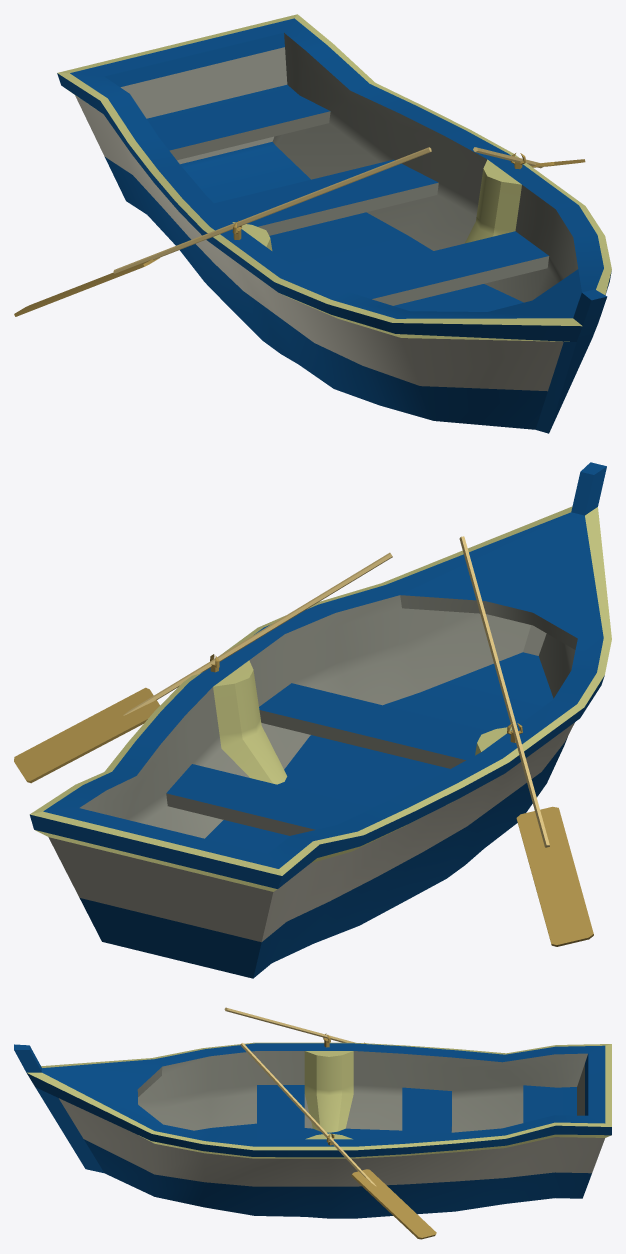
Rendered from Barquinho.fbx.
3 views of the same model, one above another, from view 1: azimuth 30°, elevation 25°; view 2: azimuth 150°, elevation 25°; view 3: azimuth 270°, elevation 25° (orthographic). The views are drawn at different scales.
Visible parts, largest first — view 1: pCube7; view 2: pCube7; view 3: pCube7.
Boxes of the visible parts, x1,y1,x2,y2 form: pCube7: (14, 14, 611, 433); pCube7: (14, 462, 611, 978); pCube7: (14, 1007, 611, 1239).
Bounding box in the file's own units: 8.67 × 3.56 × 11.29.
